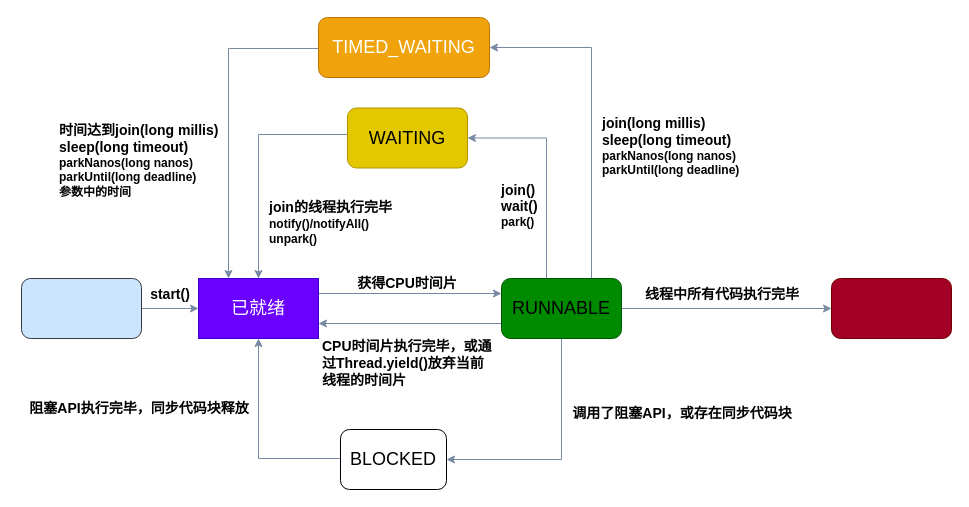
The diagram is 969 pixels wide and 507 high, and some of its shapes have lost their labels. Each missing label, with the box of its shape:
NEW: (20, 278, 142, 338)
TERMINATED: (830, 278, 952, 338)
